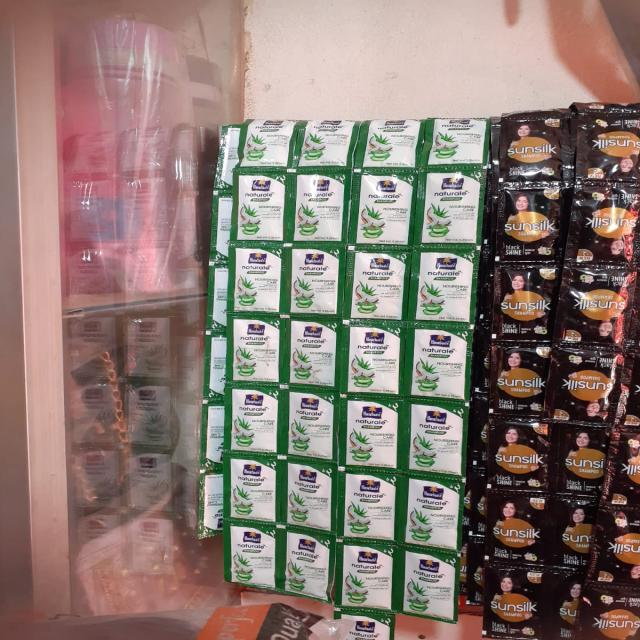non-ubl: (348, 170, 418, 246), (344, 248, 412, 318), (229, 170, 292, 244), (340, 399, 405, 469), (343, 323, 407, 394), (338, 471, 400, 542), (289, 172, 351, 243), (401, 476, 460, 550), (421, 170, 479, 245), (337, 541, 398, 612), (410, 250, 472, 318), (409, 326, 468, 396), (406, 404, 462, 476), (284, 320, 342, 389), (286, 247, 344, 314), (229, 246, 286, 314), (283, 461, 336, 533), (283, 390, 339, 458), (282, 529, 334, 602), (227, 388, 283, 455), (226, 455, 280, 524), (226, 524, 279, 593), (356, 118, 424, 171), (405, 553, 455, 623), (236, 118, 302, 170), (229, 316, 284, 378), (295, 119, 361, 170), (430, 117, 491, 169), (213, 121, 251, 188), (200, 402, 228, 463), (206, 257, 234, 318), (203, 330, 233, 384), (201, 470, 225, 537), (213, 194, 234, 254)
ubl: (566, 181, 640, 265), (542, 348, 625, 422), (568, 101, 640, 185), (552, 278, 638, 348), (494, 108, 566, 184), (494, 185, 564, 259), (487, 493, 551, 564), (486, 417, 552, 485), (494, 266, 558, 335), (479, 567, 540, 639), (554, 426, 614, 496), (548, 494, 604, 568), (492, 347, 554, 411), (589, 506, 640, 582), (574, 582, 640, 639), (601, 414, 640, 499), (548, 574, 598, 638), (466, 468, 488, 536)
